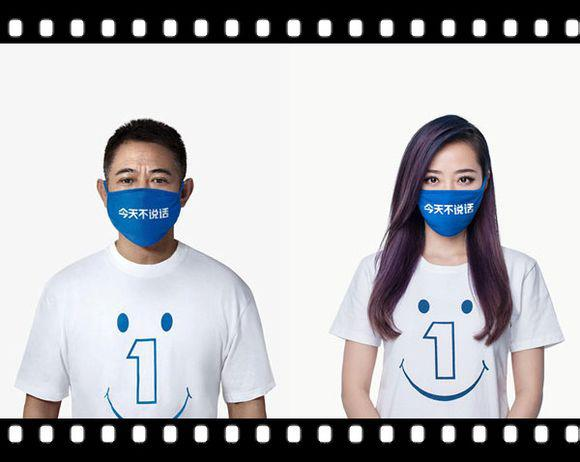OK: (107, 160, 187, 240), (418, 162, 483, 230)
